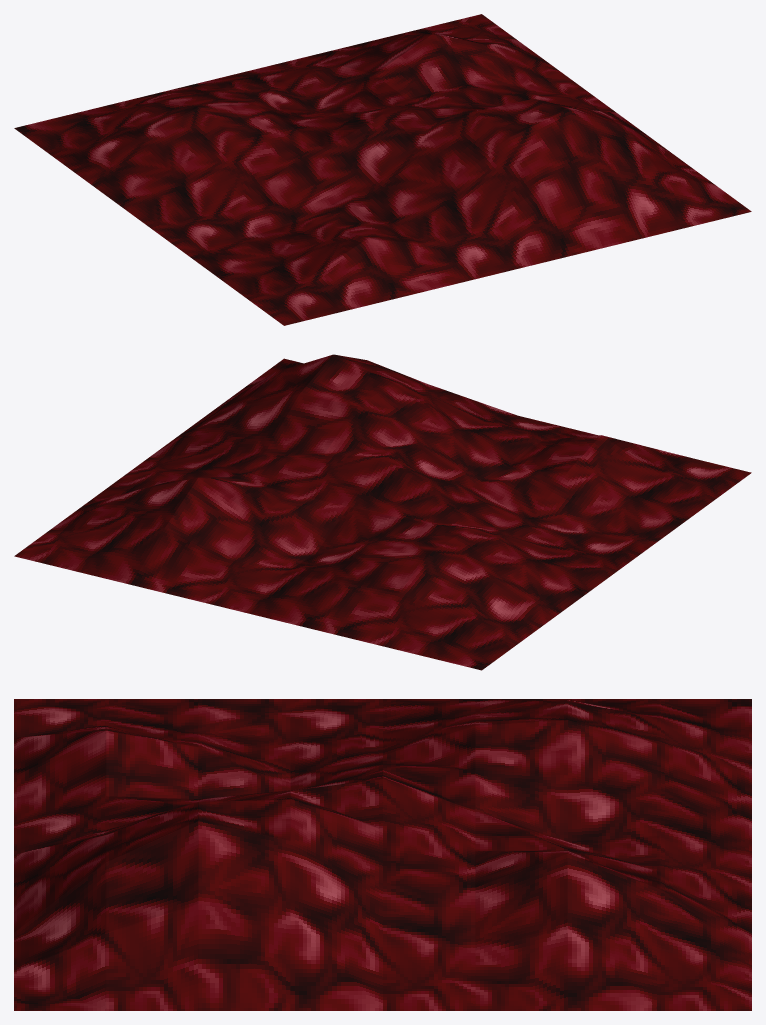
File: Classic64_RedGemstonePile_Model.fbx
3 views of the same model, one above another, from view 1: azimuth 30°, elevation 25°; view 2: azimuth 150°, elevation 25°; view 3: azimuth 270°, elevation 25° (orthographic). The views are drawn at different scales.
Visible parts, largest first — view 1: Classic64_RedGemstonePile_Part000; view 2: Classic64_RedGemstonePile_Part000; view 3: Classic64_RedGemstonePile_Part000.
Part boxes in pixels (bbox=[...]): Classic64_RedGemstonePile_Part000: bbox=[14, 14, 751, 325]; Classic64_RedGemstonePile_Part000: bbox=[14, 354, 751, 670]; Classic64_RedGemstonePile_Part000: bbox=[14, 699, 751, 1010].
Bounding box in the file's own units: 1.22 × 0.2087 × 1.22.
1 material, 1 textured.
